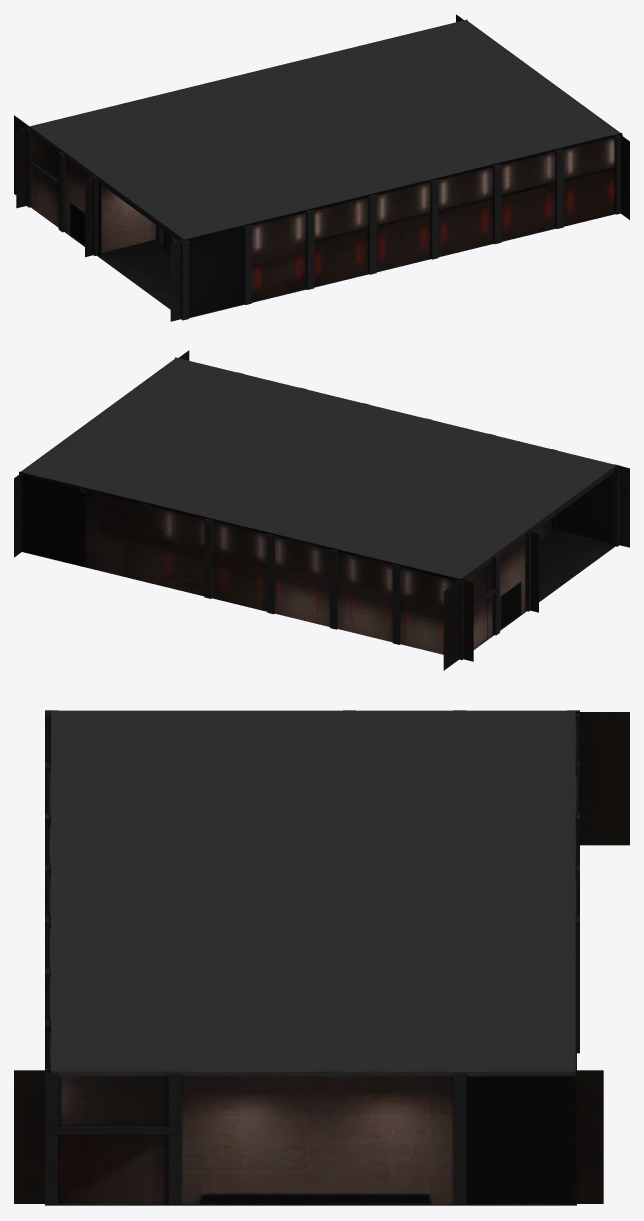
3 renders of one model, top to bottom at view 1: azimuth 30°, elevation 25°; view 2: azimuth 150°, elevation 25°; view 3: azimuth 270°, elevation 25°, orthographic. The views are drawn at different scales.
Parts seen in each view (by area): view 1: bakefaked; view 2: bakefaked; view 3: bakefaked.
Part boxes in pixels (x1=…): bakefaked: x1=14, y1=14, x2=629, y2=321; bakefaked: x1=14, y1=350, x2=629, y2=670; bakefaked: x1=14, y1=710, x2=629, y2=1205.
Size of the model in its own units: 85.47 by 14.35 by 59.55.
Materials: 1 (1 with a texture image).
